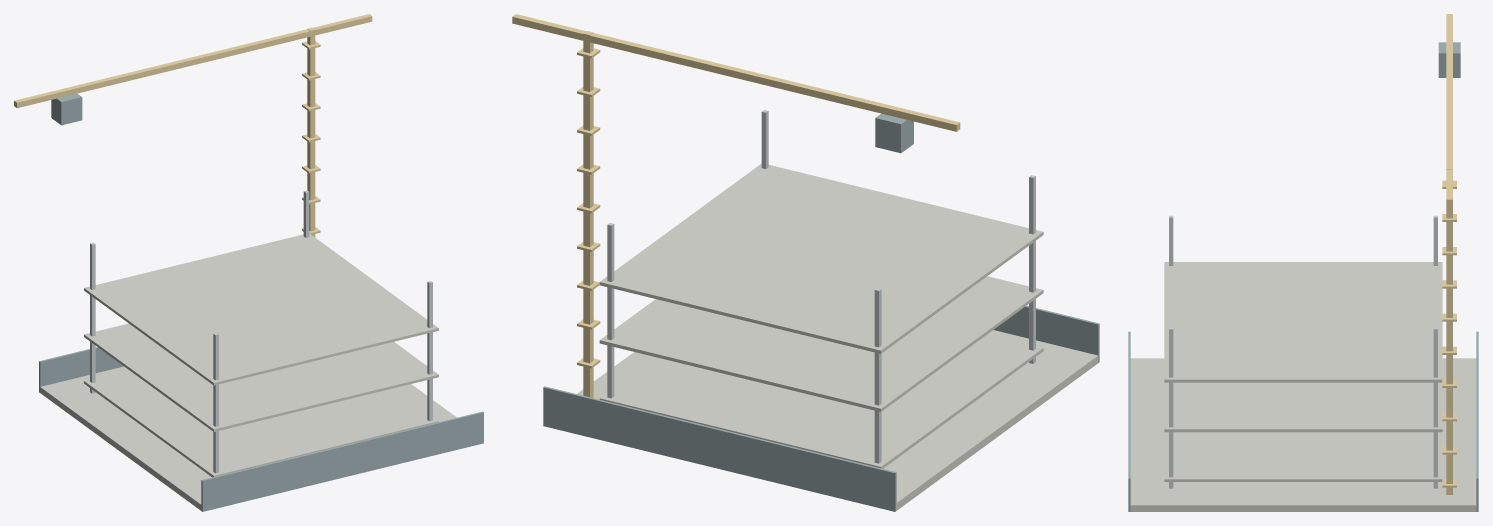
Rendered from remaster_site_2_2.glb.
The picture shows the model from 3 angles, left to right: view 1: azimuth 30°, elevation 25°; view 2: azimuth 150°, elevation 25°; view 3: azimuth 270°, elevation 25°; orthographic projection. The views are drawn at different scales.
Visible parts, largest first — view 1: remaster_site_2_2 stone, remaster_site_2_2 roof, remaster_site_2_2 gold, remaster_site_2_2 metal; view 2: remaster_site_2_2 stone, remaster_site_2_2 roof, remaster_site_2_2 gold, remaster_site_2_2 metal; view 3: remaster_site_2_2 stone, remaster_site_2_2 gold, remaster_site_2_2 metal, remaster_site_2_2 roof.
Boxes of the visible parts, x1,y1,x2,y2 form: remaster_site_2_2 stone: (39,233,456,510); remaster_site_2_2 roof: (39,93,483,511); remaster_site_2_2 gold: (14,14,372,237); remaster_site_2_2 metal: (90,190,432,473); remaster_site_2_2 stone: (577,163,1098,510); remaster_site_2_2 roof: (543,113,1099,511); remaster_site_2_2 gold: (512,14,960,399); remaster_site_2_2 metal: (607,110,1035,463); remaster_site_2_2 stone: (1129,262,1477,511); remaster_site_2_2 gold: (1442,14,1456,494); remaster_site_2_2 metal: (1169,215,1437,488); remaster_site_2_2 roof: (1128,42,1478,511).
Size of the model in its own units: 24 by 20 by 19.14.
